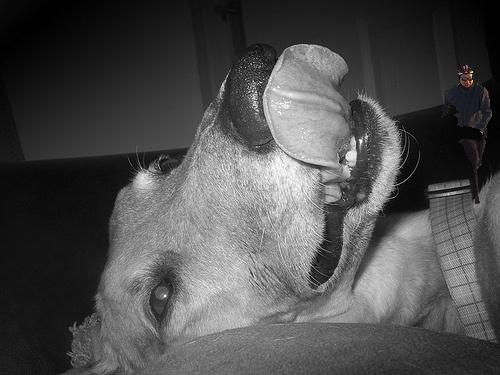tampered: (441, 66, 492, 204)
